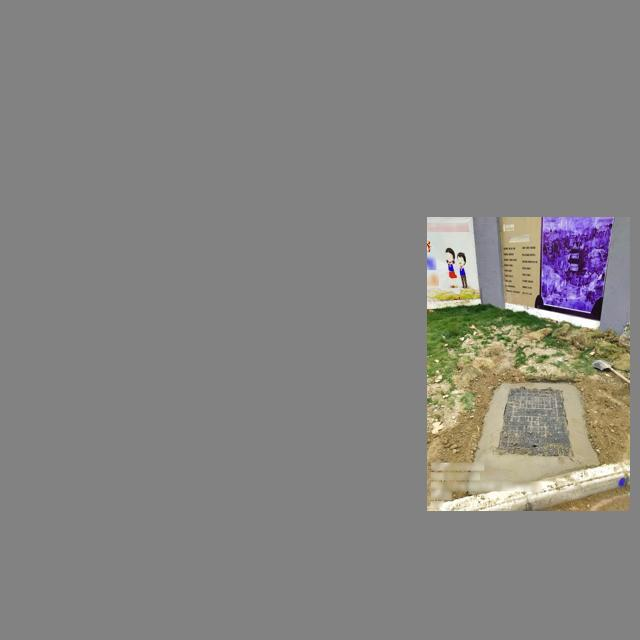good: (495, 387, 576, 458)
